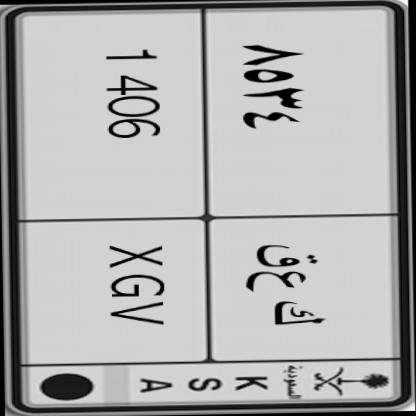english: (0, 0, 237, 372)
